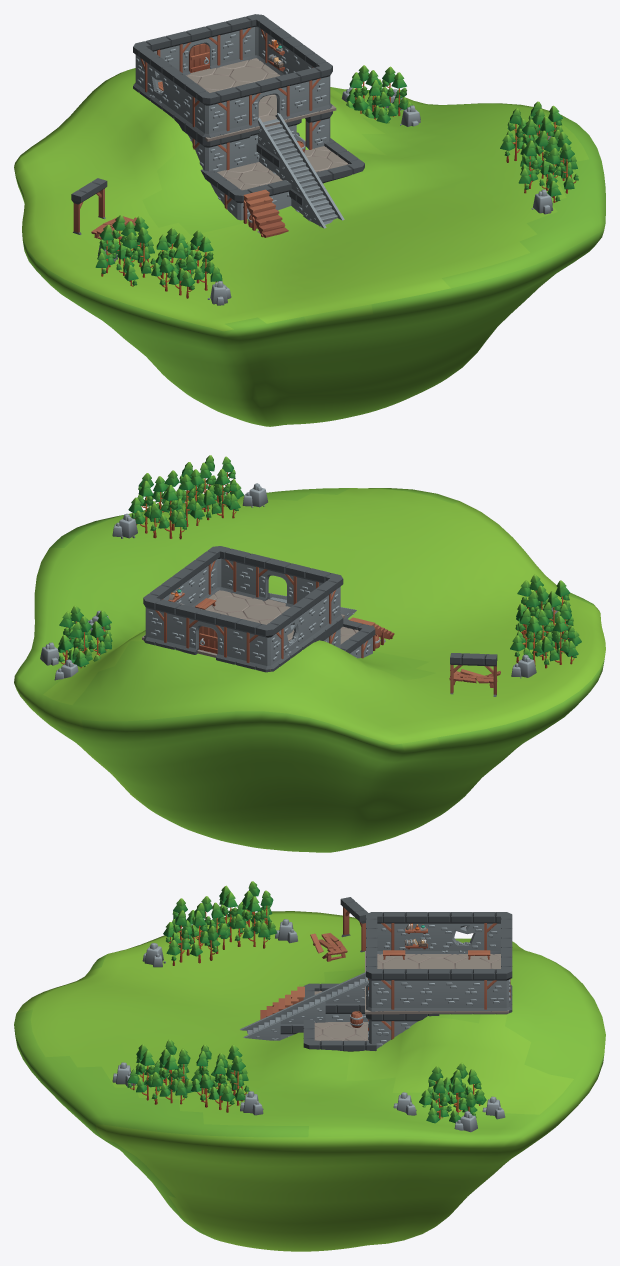
Rendered from Spawn Level.fbx.
The picture shows the model from 3 angles, top to bottom: view 1: azimuth 30°, elevation 25°; view 2: azimuth 150°, elevation 25°; view 3: azimuth 270°, elevation 25°; orthographic projection. The views are drawn at different scales.
Visible parts, largest first — view 1: Cube.040, wall_corner_scaffold.016, stairs_wood_decorated.001, stairs_long.002, floor_tile_large.025, stairs_long.003, wall_doorway_scaffold.004, wall_corner_scaffold.014, wall_doorway_scaffold.003, wall_broken.003, wall_shelves.003, wall_corner_scaffold.017 (+16 smaller); view 2: Cube.040, wall_corner_scaffold.015, wall_doorway_scaffold.003, wall_doorway_scaffold.004, wall_corner_scaffold.017, floor_tile_large.023, wall_shelves.003, wall_corner_scaffold.014, wall_broken.003, wall.027, wall_half.012, wall_half.013 (+6 smaller); view 3: Cube.040, wall_shelves.002, wall.027, wall_shelves.003, wall_broken.003, wall_corner_scaffold.014, wall_corner_scaffold.017, stairs_long.003, stairs_long.002, floor_tile_large.027, floor_tile_large.026, floor_tile_large.024 (+10 smaller).
Boxes of the visible parts, left/top/right/bottom form: Cube.040: left=14, top=68, right=605, bottom=426; wall_corner_scaffold.016: left=191, top=86, right=230, bottom=139; stairs_wood_decorated.001: left=243, top=189, right=288, bottom=237; stairs_long.002: left=256, top=113, right=302, bottom=161; floor_tile_large.025: left=201, top=58, right=280, bottom=88; stairs_long.003: left=280, top=150, right=325, bottom=199; wall_doorway_scaffold.004: left=245, top=74, right=290, bottom=127; wall_corner_scaffold.014: left=236, top=14, right=274, bottom=64; wall_doorway_scaffold.003: left=176, top=24, right=221, bottom=75; wall_broken.003: left=144, top=53, right=177, bottom=113; wall_shelves.003: left=168, top=70, right=200, bottom=130; wall_corner_scaffold.017: left=305, top=57, right=332, bottom=113; Cube.040: left=14, top=488, right=605, bottom=852; wall_corner_scaffold.015: left=245, top=618, right=285, bottom=672; wall_doorway_scaffold.003: left=185, top=606, right=230, bottom=662; wall_doorway_scaffold.004: left=255, top=556, right=300, bottom=606; wall_corner_scaffold.017: left=201, top=546, right=240, bottom=596; floor_tile_large.023: left=201, top=590, right=277, bottom=620; wall_shelves.003: left=299, top=584, right=331, bottom=645; wall_corner_scaffold.014: left=143, top=589, right=170, bottom=647; wall_broken.003: left=275, top=601, right=308, bottom=662; wall.027: left=178, top=555, right=211, bottom=607; wall_half.012: left=225, top=616, right=250, bottom=667; wall_half.013: left=165, top=601, right=190, bottom=652; Cube.040: left=14, top=911, right=605, bottom=1251; wall_shelves.002: left=439, top=969, right=484, bottom=1014; wall.027: left=394, top=969, right=439, bottom=1014; wall_shelves.003: left=394, top=912, right=439, bottom=954; wall_broken.003: left=439, top=912, right=484, bottom=954; wall_corner_scaffold.014: left=484, top=961, right=512, bottom=1014; wall_corner_scaffold.017: left=366, top=961, right=394, bottom=1011; stairs_long.003: left=280, top=990, right=325, bottom=1027; stairs_long.002: left=325, top=972, right=367, bottom=1006; floor_tile_large.027: left=314, top=1022, right=368, bottom=1040; floor_tile_large.026: left=437, top=954, right=500, bottom=969; floor_tile_large.024: left=365, top=951, right=436, bottom=971.
Size of the model in its own units: 10448 by 5627 by 10531.
Materials: 19 (19 with a texture image).
